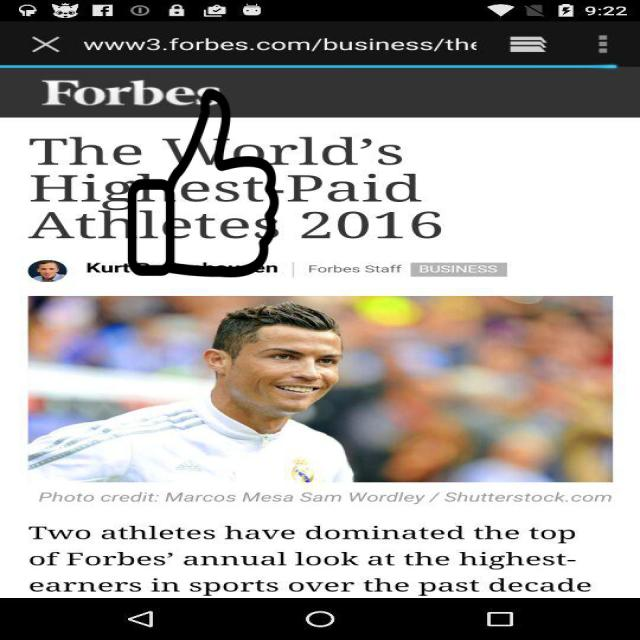privacy zuckering: (126, 90, 281, 278)
